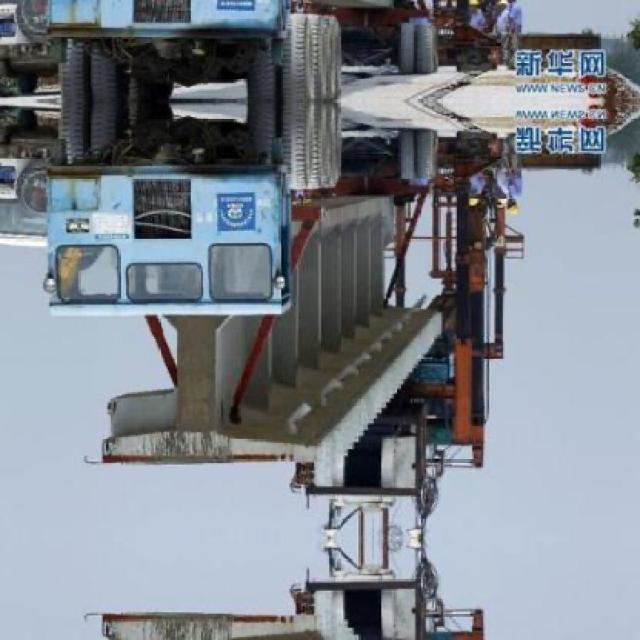con casco: (480, 189, 520, 235)
